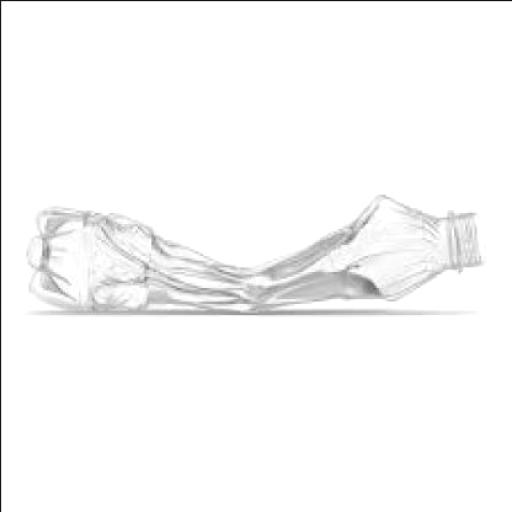plastic: (30, 189, 488, 312)
